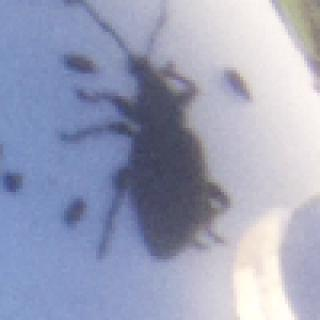bvw: (58, 0, 230, 263)
